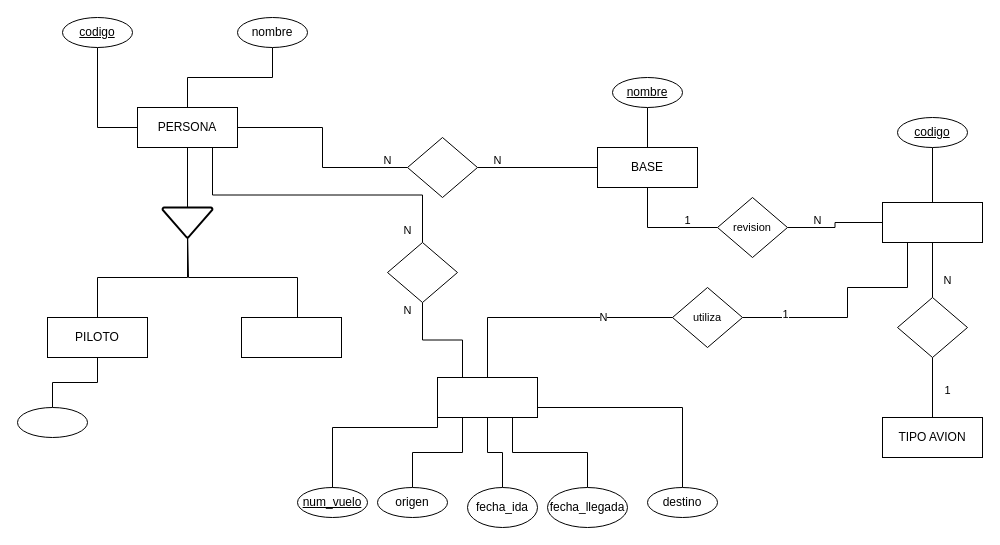
Image size: 1000x545. Some labels were removed from this diagram. The shapes that lost their labels are listed below. From the top down, each one's box as (x1, y1, x2, y2) in pixels, then its label:
(406, 136, 478, 198): regreso
(882, 202, 982, 242): AVION
(386, 242, 458, 302): participa
(240, 316, 342, 358): MIEMBRO
(896, 296, 968, 358): tipo
(436, 376, 538, 418): VUELO
(16, 406, 88, 438): horas_vuelo
